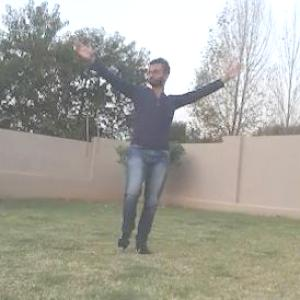takeoff: (59, 23, 242, 267)
